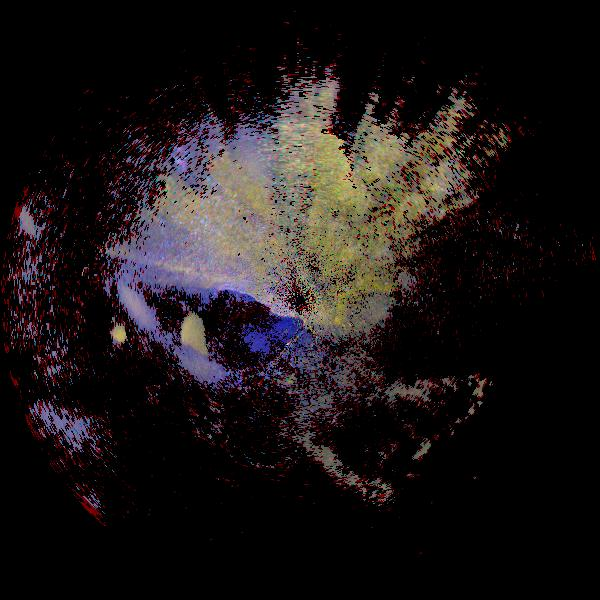roost: (43, 307, 157, 421), (124, 305, 226, 407)
